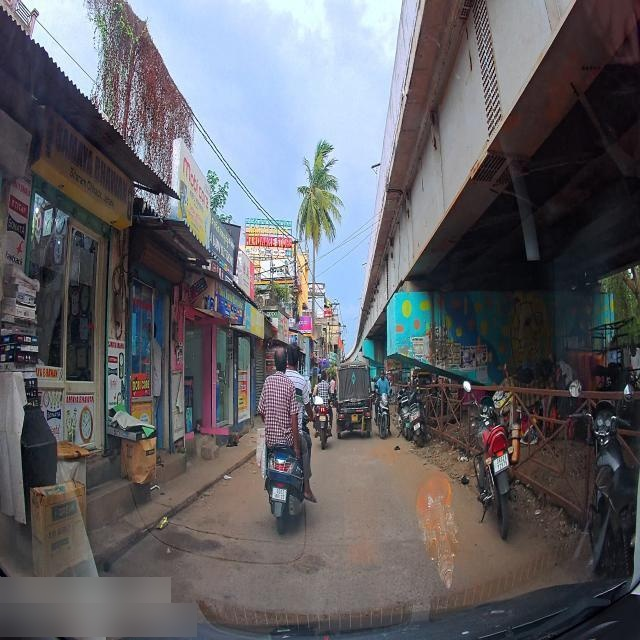pothole: (298, 548, 326, 574)
